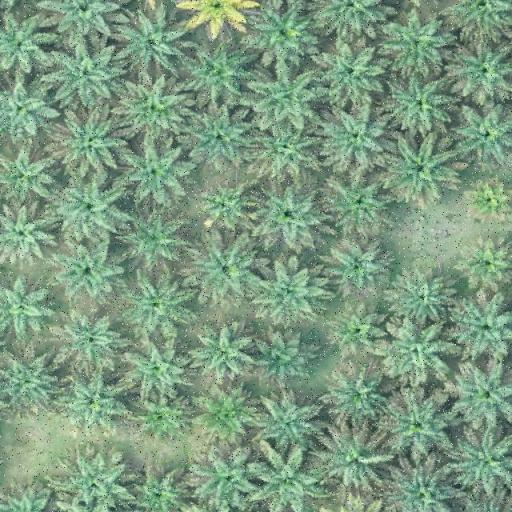Ganoderma: (188, 0, 244, 31)
